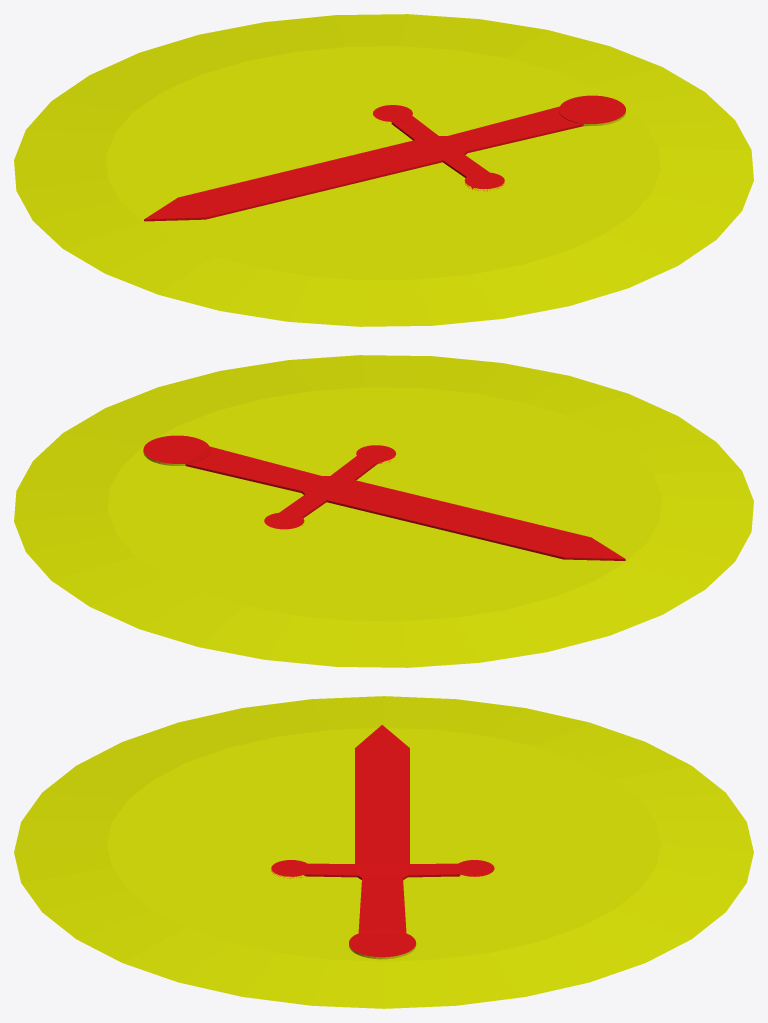
The model's file is sword.fbx.
3 views of the same model, one above another, from view 1: azimuth 30°, elevation 25°; view 2: azimuth 150°, elevation 25°; view 3: azimuth 270°, elevation 25° (orthographic).
Parts seen in each view (by area): view 1: sword.006; view 2: sword.006; view 3: sword.006.
Boxes of the visible parts, <box> form: sword.006: <box>14,14,753,326</box>; sword.006: <box>14,355,753,667</box>; sword.006: <box>14,696,753,1008</box>.
Bounding box in the file's own units: 122 × 1.91 × 122.
